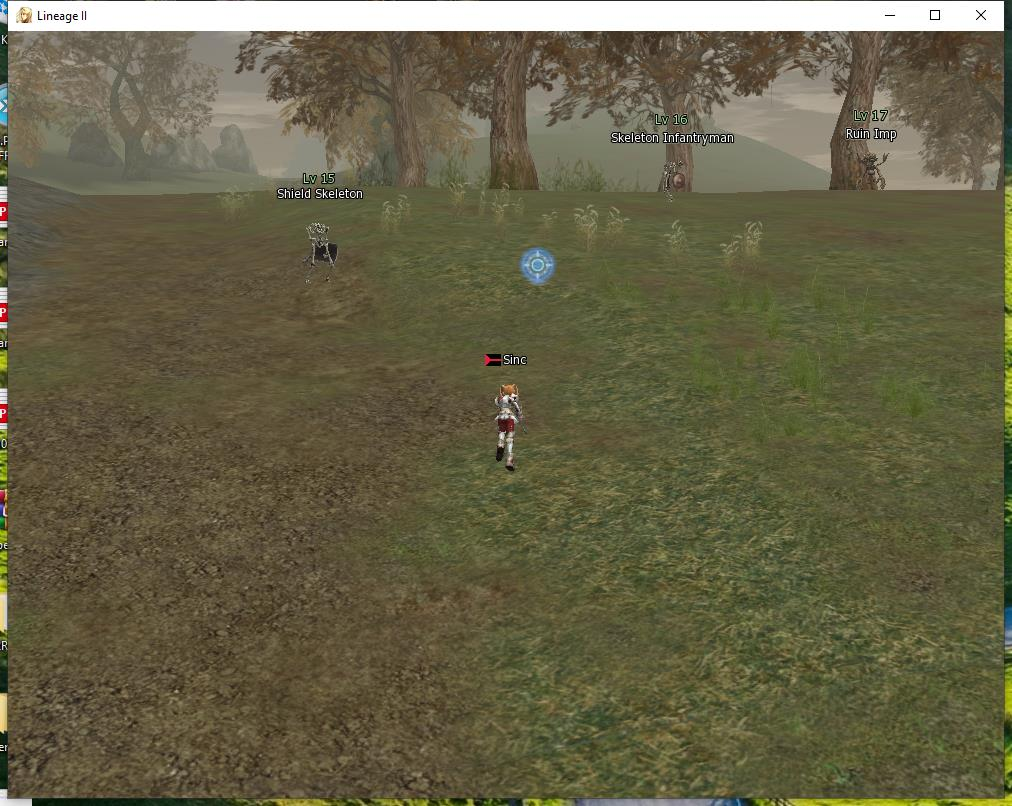monster: (606, 94, 717, 211), (264, 163, 371, 284), (841, 102, 908, 194)
